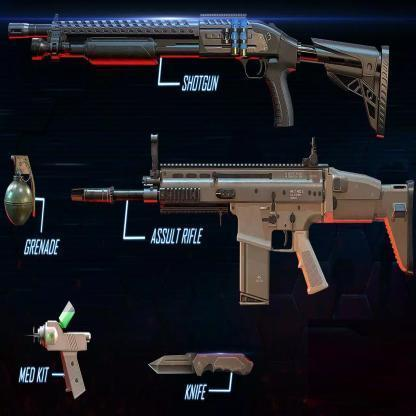Grenade: (4, 153, 36, 228)
Gun: (70, 130, 415, 307), (6, 10, 391, 142)
Knife: (146, 347, 254, 381)
